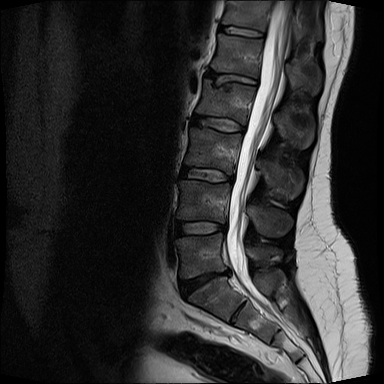Degenerative Disc Disease (DDD): (198, 64, 263, 91)
Lumbar Disc Bulge (LDB): (171, 263, 235, 304)
Normal IVD: (169, 215, 233, 243), (178, 162, 238, 189), (185, 111, 249, 136), (214, 22, 267, 42)
Spinal Stenosis (SS): (217, 261, 237, 286)
